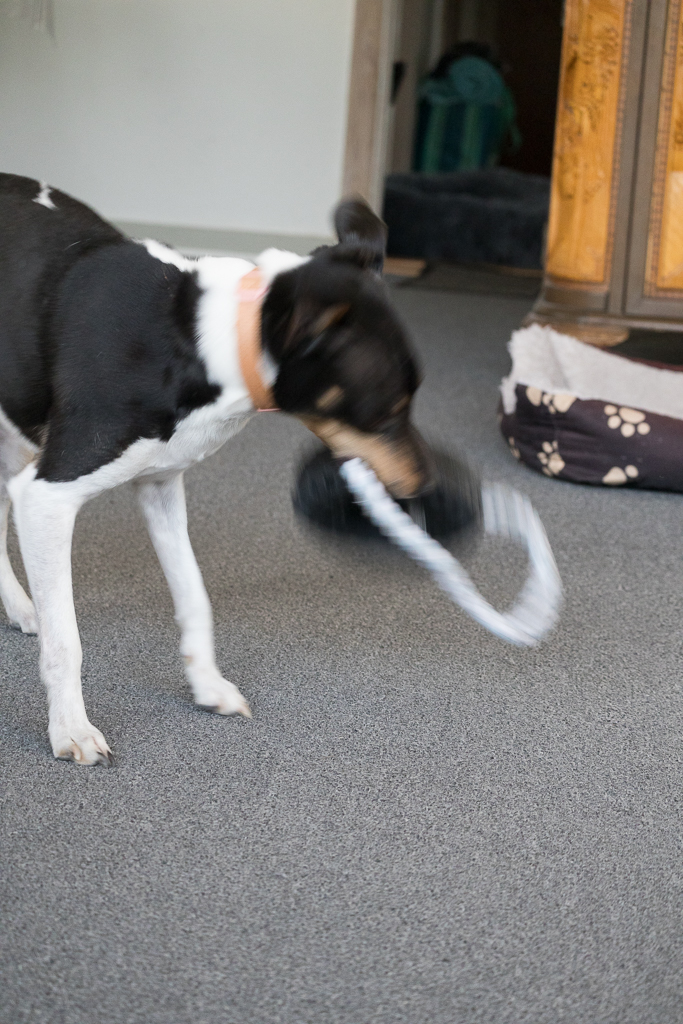Dog: (0, 156, 460, 779)
